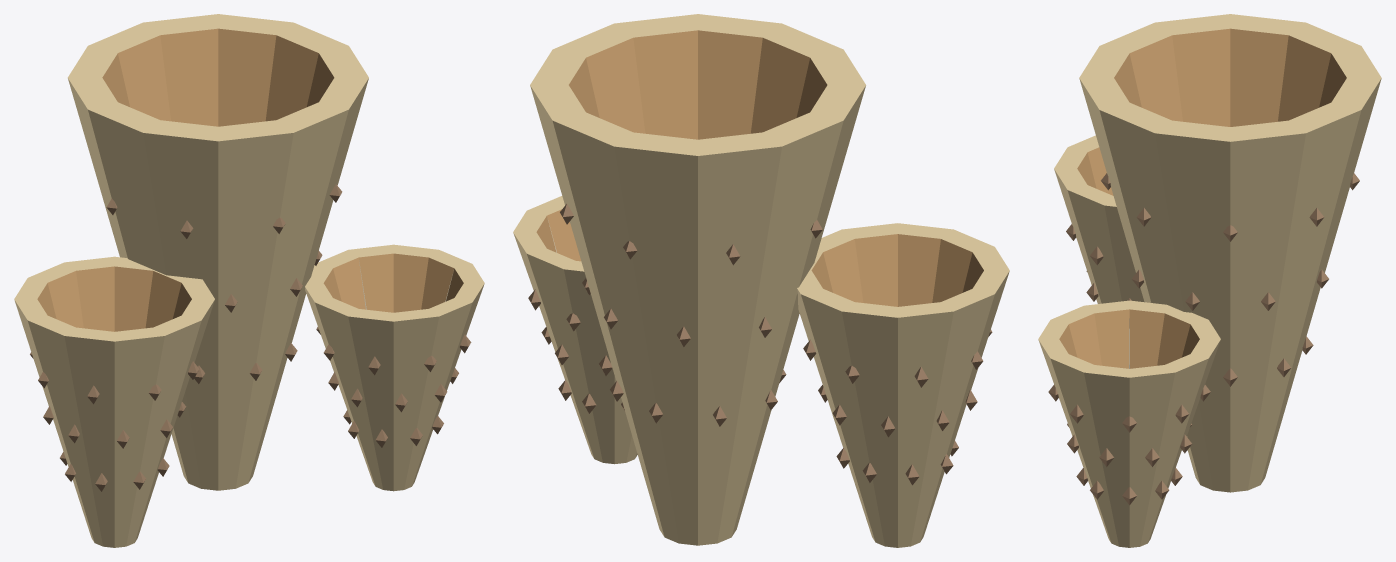
File: archaeocyatha.fc4f146b9a36.glb
3 renders of one model, left to right at view 1: azimuth 30°, elevation 25°; view 2: azimuth 150°, elevation 25°; view 3: azimuth 270°, elevation 25°, orthographic. The views are drawn at different scales.
Visible parts, largest first — view 1: archaeocyatha; view 2: archaeocyatha; view 3: archaeocyatha.
Part boxes in pixels (box(x1,y1,x2,y2)): archaeocyatha: box(14, 14, 484, 547); archaeocyatha: box(513, 14, 1009, 547); archaeocyatha: box(1038, 14, 1381, 547).
Bounding box in the file's own units: 1 × 0.8805 × 0.6855.
